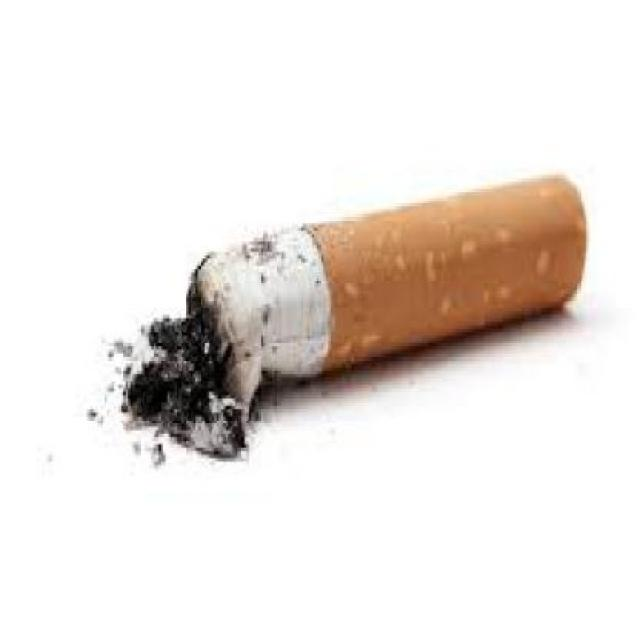cigarette: (139, 203, 601, 377)
